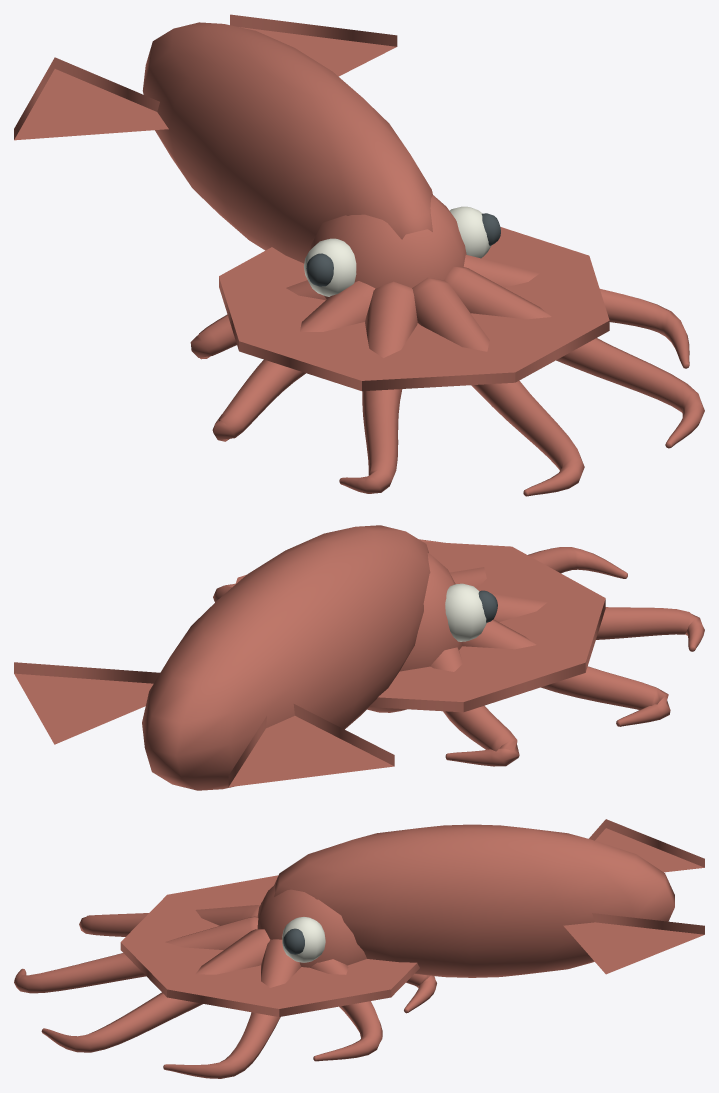
The model's file is open-ocean-and-deep-sea-life-vampire-squid-b6524bb7__5885.glb.
The picture shows the model from 3 angles, top to bottom: view 1: azimuth 30°, elevation 25°; view 2: azimuth 150°, elevation 25°; view 3: azimuth 270°, elevation 25°; orthographic projection. The views are drawn at different scales.
Visible parts, largest first — view 1: vampire-squid; view 2: vampire-squid; view 3: vampire-squid.
Boxes of the visible parts, x1,y1,x2,y2 form: vampire-squid: (14, 14, 704, 496); vampire-squid: (14, 525, 704, 790); vampire-squid: (14, 819, 704, 1078).
Bounding box in the file's own units: 0.1812 × 0.0796 × 0.3.
